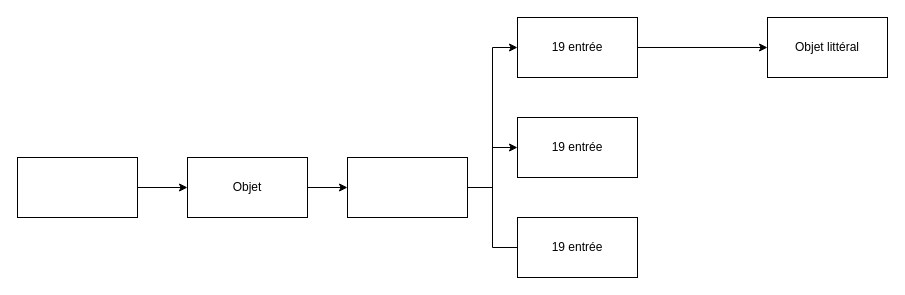
Some shapes in this 905 by 295 pixel diagram are drawn without their labels. Here are the shapes that lost their labels. From the top down, the centre of each, then its label:
[77,187]: Json
[407,187]: Tableau
